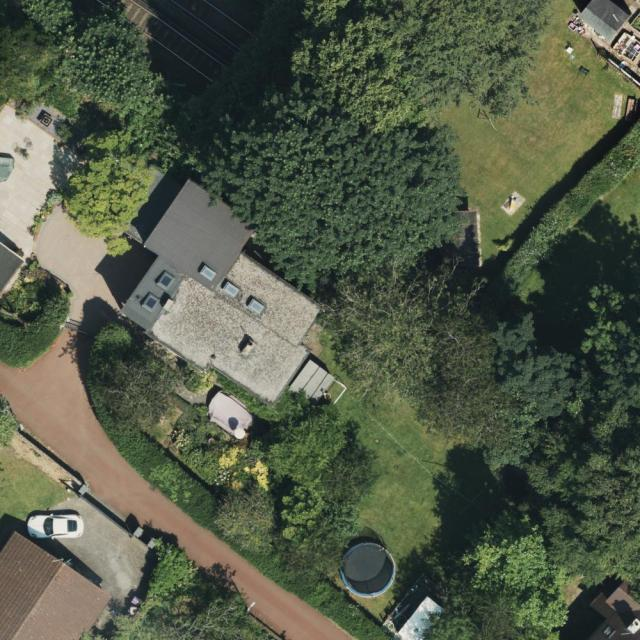roof: (115, 174, 324, 408), (0, 530, 112, 640)
skylight: (244, 295, 268, 319), (139, 289, 160, 314), (219, 278, 240, 302), (196, 261, 217, 283), (155, 271, 178, 290)
